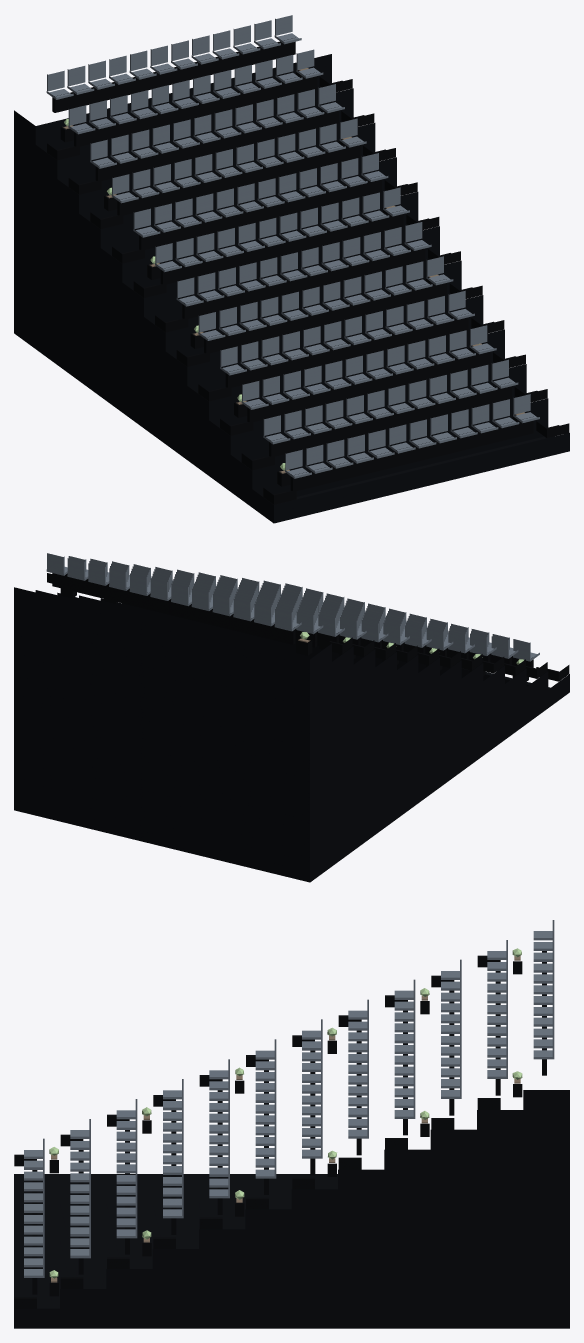
3 views of the same model, one above another, from view 1: azimuth 30°, elevation 25°; view 2: azimuth 150°, elevation 25°; view 3: azimuth 270°, elevation 25° (orthographic). The views are drawn at different scales.
Visible parts, largest first — view 1: Tier_Concrete, Seat_Backs, Seat_Beams, Seat_Pans, Aisle_Steps, Planter_Trough; view 2: Tier_Concrete, Seat_Backs, Seat_Beams, Aisle_Steps, Seat_Pans, Planter_Trough; view 3: Tier_Concrete, Seat_Pans, Aisle_Steps, Seat_Backs, Seat_Beams, Planter_Trough, Foliage.
Part boxes in pixels (x1,y1,x2,y2): Tier_Concrete: (14, 54, 569, 523); Seat_Backs: (47, 15, 530, 470); Seat_Beams: (52, 37, 533, 490); Seat_Pans: (46, 33, 539, 478); Aisle_Steps: (47, 77, 569, 504); Planter_Trough: (60, 70, 517, 486); Tier_Concrete: (14, 587, 569, 882); Seat_Backs: (47, 553, 530, 659); Seat_Beams: (52, 573, 533, 667); Aisle_Steps: (47, 573, 569, 681); Seat_Pans: (46, 567, 539, 661); Planter_Trough: (60, 588, 528, 681); Tier_Concrete: (14, 1090, 569, 1328); Seat_Pans: (24, 931, 554, 1277); Aisle_Steps: (14, 955, 500, 1308); Seat_Backs: (43, 920, 554, 1275); Seat_Beams: (32, 951, 546, 1294); Planter_Trough: (49, 961, 522, 1296); Foliage: (49, 948, 522, 1278).
Size of the model in its own units: 7.5 by 6.25 by 11.4.
Materials: 5 (3 with a texture image).
